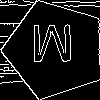M: (30, 25, 75, 71)
